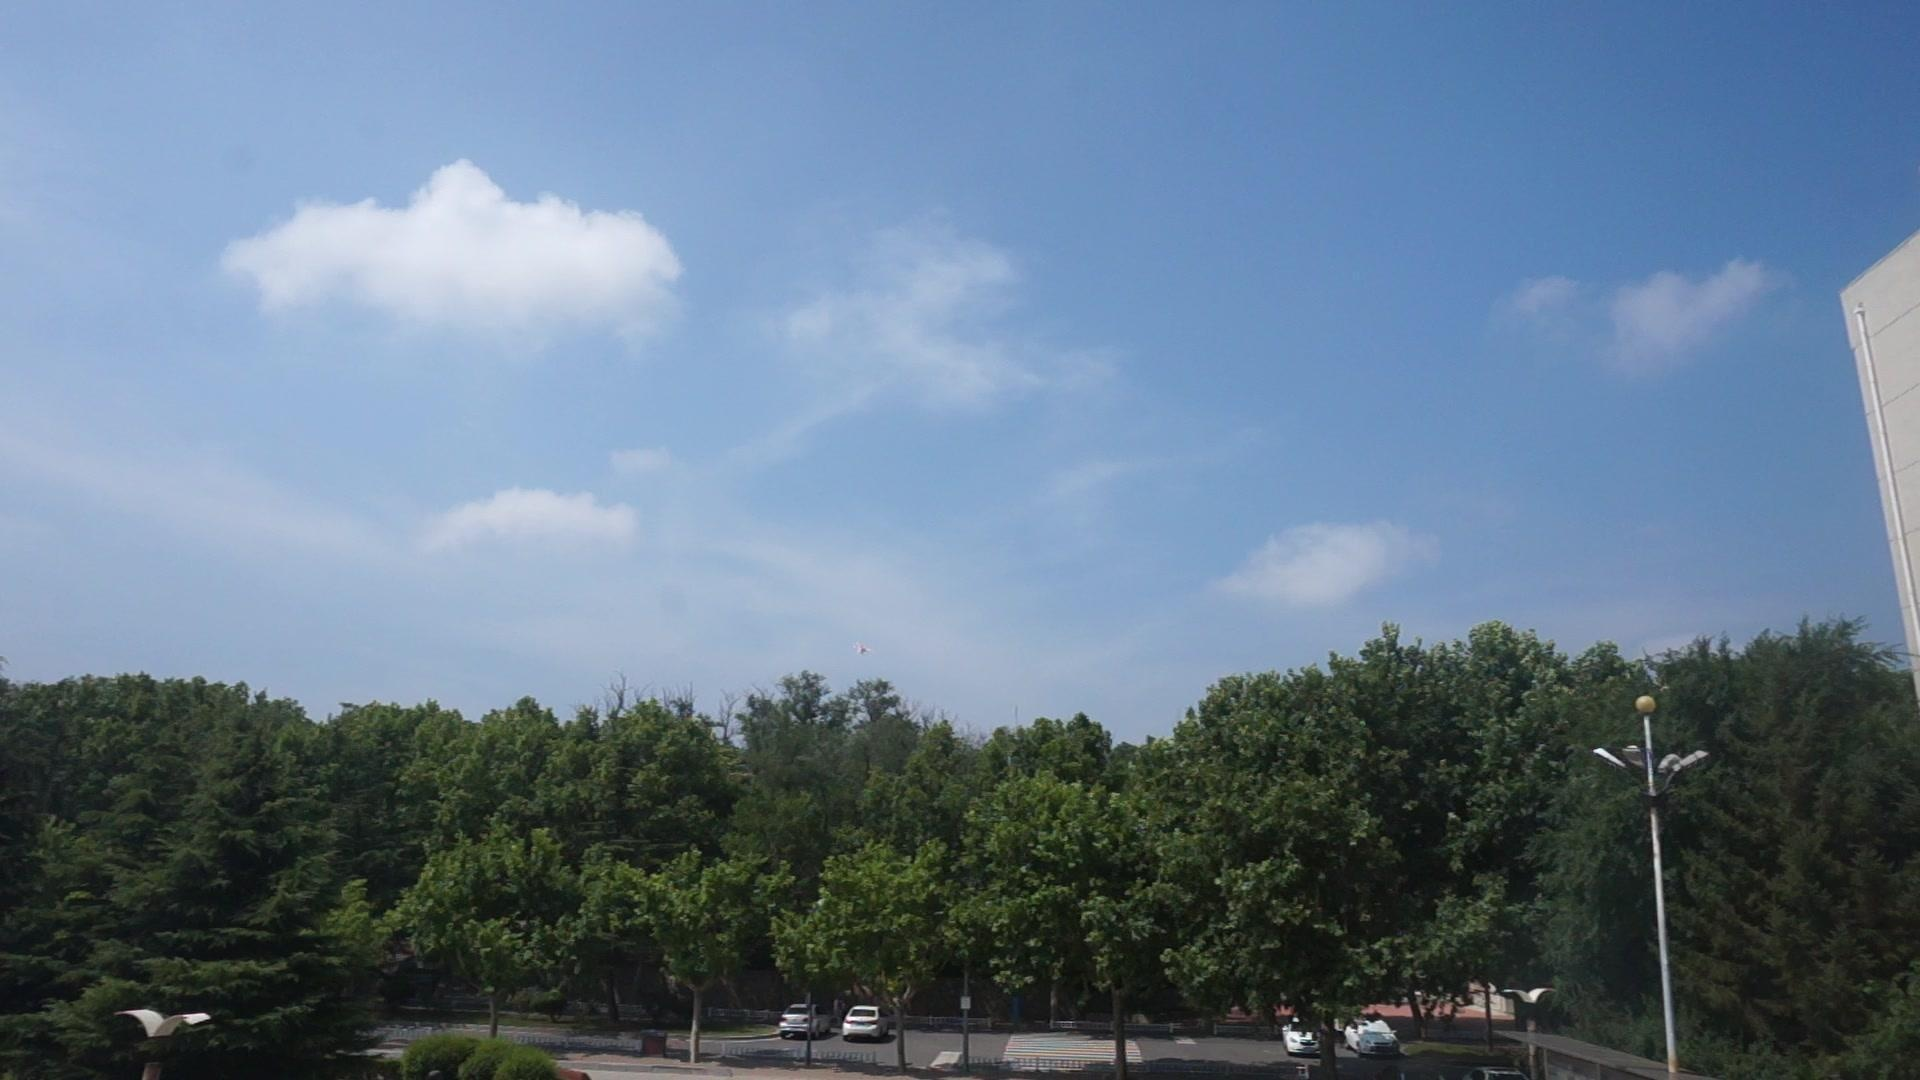UAV: (851, 642, 873, 655)
